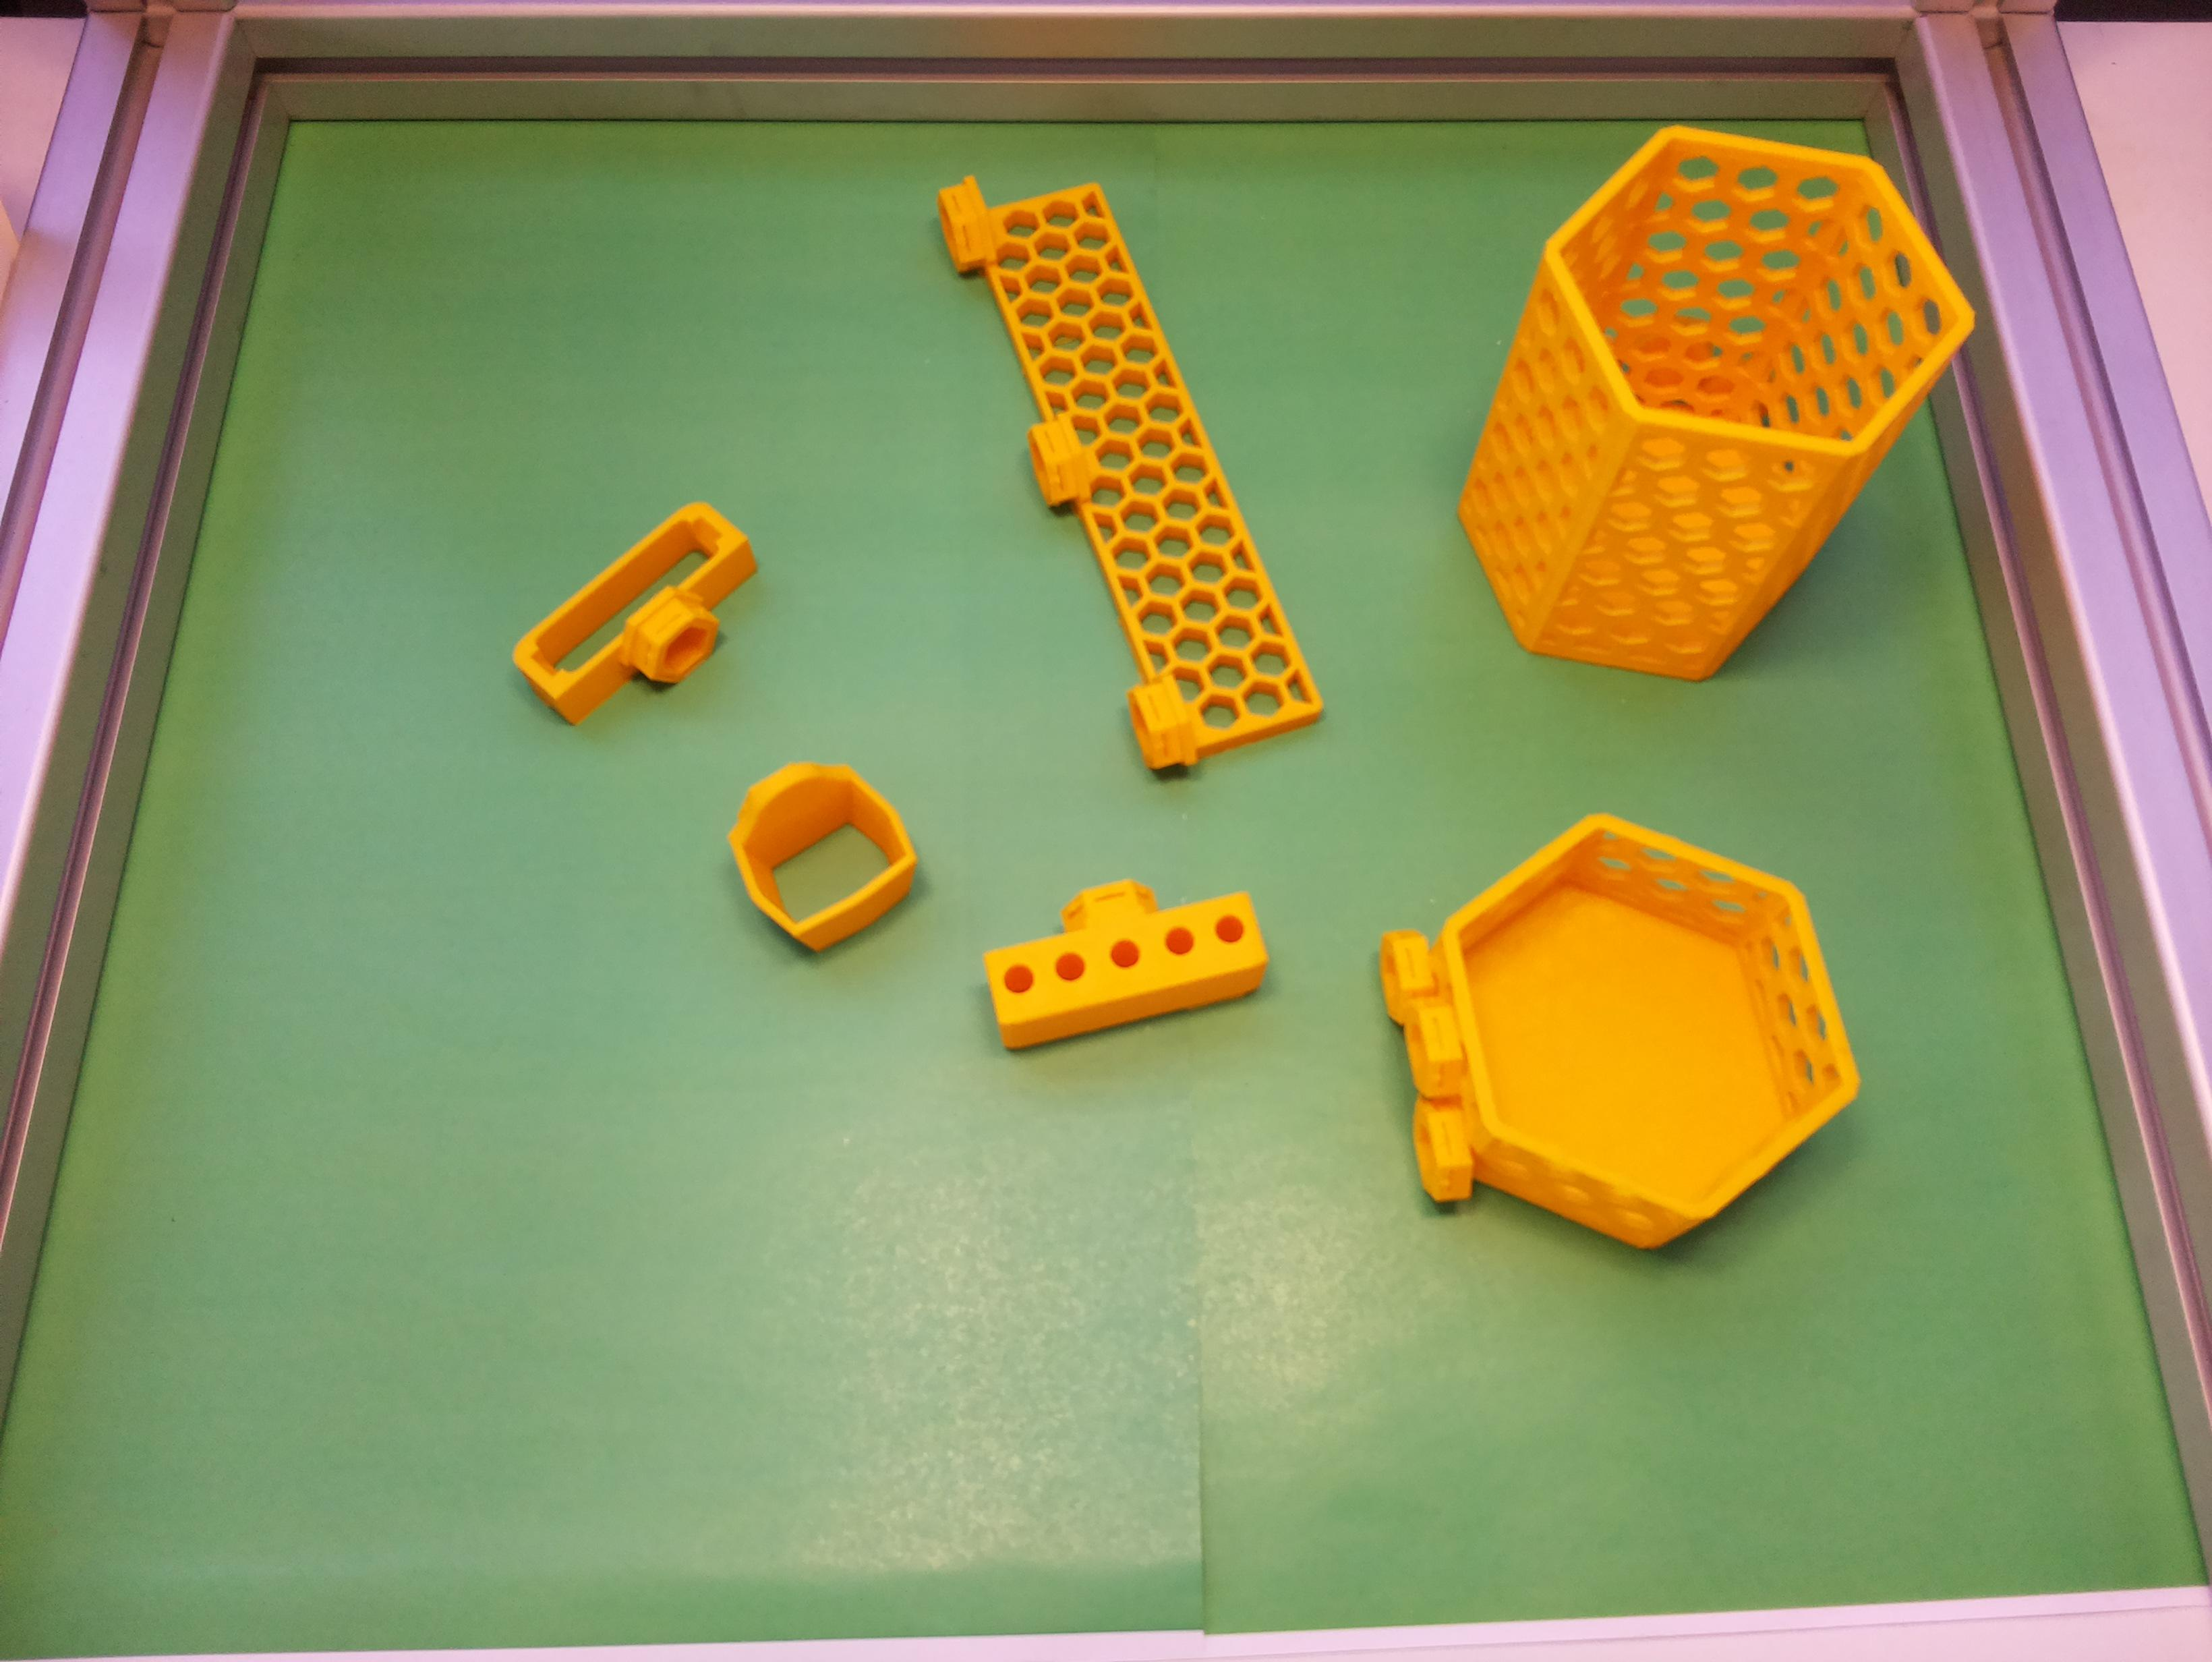bit_holder: (972, 852, 1274, 1051)
bottle_holder: (1308, 745, 1917, 1330)
cup_holder: (1348, 33, 2022, 754)
cutter_holder: (503, 487, 791, 758)
scissor_holder: (704, 730, 938, 969)
tool_holder: (904, 133, 1329, 789)
